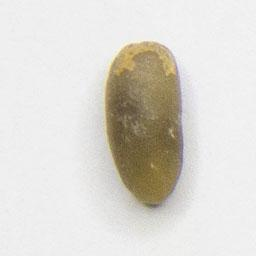longberry: (99, 36, 190, 210)
